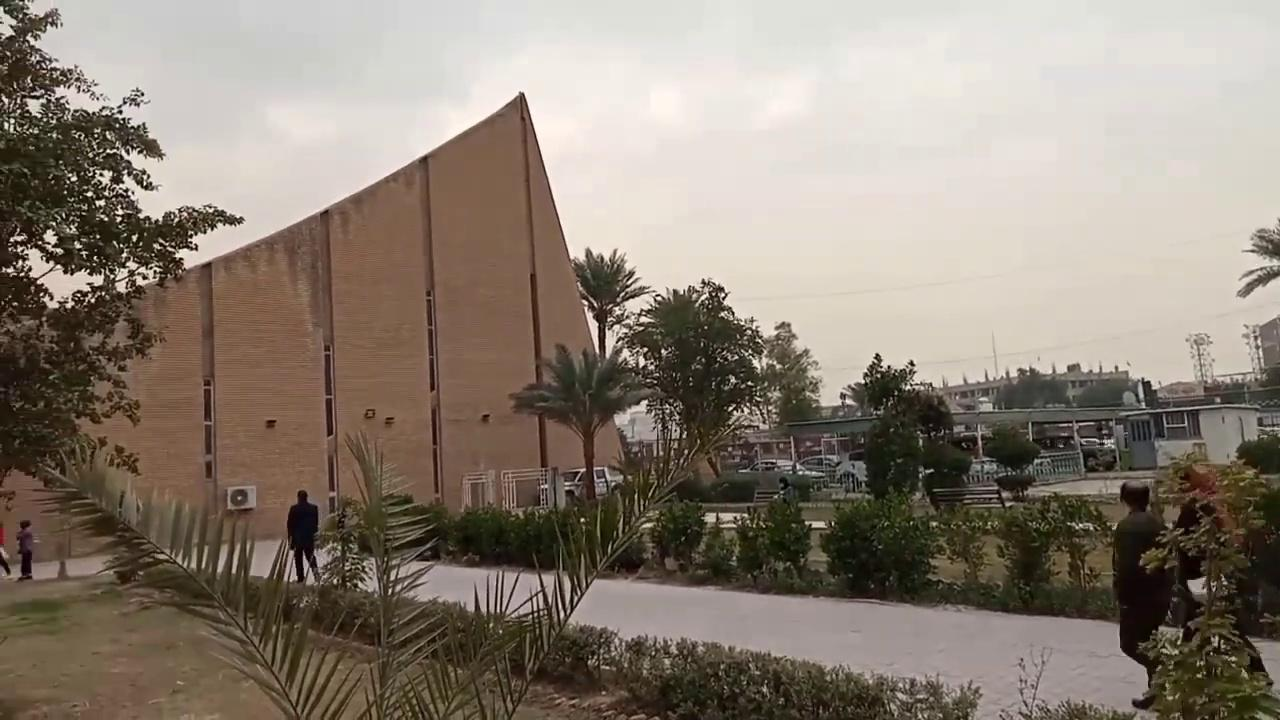car: (538, 465, 624, 508), (1033, 434, 1117, 470), (737, 458, 825, 482), (966, 456, 1017, 483), (947, 429, 994, 450)
person: (1110, 480, 1176, 710), (286, 489, 320, 583), (15, 519, 33, 581), (775, 476, 795, 505)
tree: (0, 0, 244, 507), (1132, 451, 1278, 718), (620, 276, 772, 486), (311, 428, 446, 649), (507, 341, 656, 504), (843, 351, 971, 501), (818, 490, 944, 601), (568, 245, 652, 360), (734, 493, 813, 587), (757, 319, 822, 429), (862, 412, 922, 500), (983, 419, 1041, 500), (648, 497, 706, 571), (849, 351, 917, 414), (1235, 215, 1279, 299), (901, 387, 954, 440), (1184, 331, 1215, 383), (1241, 322, 1266, 380)
